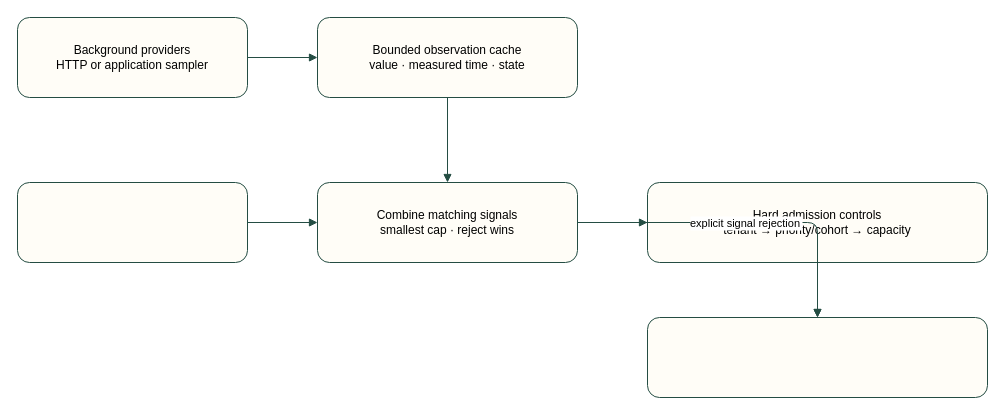
Image size: 1005x415. Some labels were removed from this diagram. Here are the shapes that lost their labels. From the top down, the centre of each, then its label:
At point (132, 222): "Trusted request identity tenant · priority · resource".
At point (817, 357): "Handler or structured 503 explanation names the failed stage".
